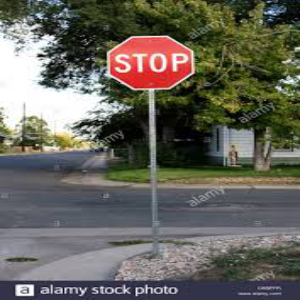STOP_SIGN: (107, 34, 194, 90)
